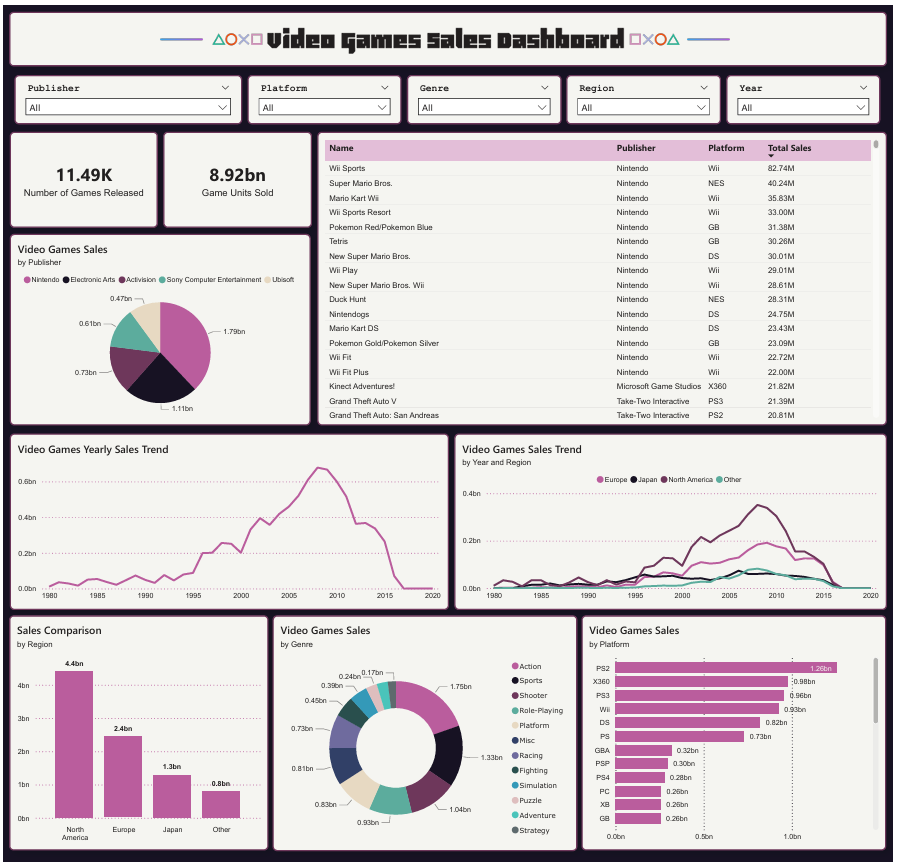

What the dashboard file says about the page in this screenshot:
{"tool":"powerbi","page":{"name":"Page 1","canvas":[1350,1300],"ordinal":0},"visuals":[{"type":"shape","box":[7.8,10,1333.3,83.3],"z":0},{"type":"image","box":[381.1,10,587.8,113.3],"z":1000},{"type":"image","box":[242.2,23.3,223.3,57.8],"z":2000},{"type":"image","box":[876.7,23.3,223.3,57.8],"z":3000},{"type":"image","box":[146.7,10,245.6,84.4],"z":4000},{"type":"image","box":[961.1,10,217.8,84.4],"z":5000},{"type":"slicer","fields":{"Values":["vgsales.Platform"]},"box":[370,105.6,234.4,75.6],"z":6000},{"type":"slicer","fields":{"Values":["vgsales.Publisher"]},"box":[15.6,105.6,346.7,75.6],"z":7000},{"type":"slicer","fields":{"Values":["vgsales.Genre"]},"box":[612.2,105.6,234.4,75.6],"z":8000},{"type":"slicer","fields":{"Values":["vgsales.Year.Variation.Date Hierarchy.Year"]},"box":[1096.7,105.6,234.4,75.6],"z":9000},{"type":"slicer","fields":{"Values":["vgsales.Region"]},"box":[854.4,105.6,234.4,75.6],"z":10000},{"type":"lineChart","title":"Video Games Yearly Sales Trend","fields":{"Category":["vgsales.Year.Variation.Date Hierarchy.Year"],"Y":["Sum(vgsales.Sales)"]},"box":[8.9,650,666.7,267.8],"z":11000},{"type":"clusteredColumnChart","fields":{"Category":["vgsales.Region"],"Y":["Sum(vgsales.Sales)"]},"box":[7.8,925.6,394.4,357.8],"z":12000},{"type":"lineChart","fields":{"Y":["Sum(vgsales.Sales)"],"Category":["vgsales.Year.Variation.Date Hierarchy.Year"],"Series":["vgsales.Region"]},"box":[684.4,650,656.7,267.8],"z":13000},{"type":"donutChart","title":"Video Games Sales","fields":{"Y":["Sum(vgsales.Sales)"],"Category":["vgsales.Genre"]},"box":[407.8,925.6,463.3,358.9],"z":14000},{"type":"clusteredBarChart","title":"Video Games Sales","fields":{"Y":["Sum(vgsales.Sales)"],"Category":["vgsales.Platform"]},"box":[876.7,925.6,463.3,357.8],"z":15000},{"type":"tableEx","fields":{"Values":["vgsales.Name","vgsales.Publisher","vgsales.Platform","Sum(vgsales.Sales)"]},"box":[475.6,192.2,865.6,445.6],"z":16000},{"type":"card","fields":{"Values":["Count(vgsales.Name)"]},"box":[8.9,192.2,225.6,145.6],"z":17000},{"type":"card","fields":{"Values":["Sum(vgsales.Sales)"]},"box":[242.2,192.2,225.6,145.6],"z":18000},{"type":"pieChart","title":"Video Games Sales","fields":{"Category":["vgsales.Publisher"],"Y":["Sum(vgsales.Sales)"],"Series":["vgsales.Publisher"]},"box":[8.9,346.7,456.7,291.1],"z":19000}]}

Visuals, with their boxes in screenshot pixels (x1, y1, x2, y2), scaled from the page's 1350x1300 canvas onto the 898x867 screenshot:
shape: bbox(5, 7, 892, 62)
image: bbox(254, 7, 644, 82)
image: bbox(161, 16, 310, 54)
image: bbox(583, 16, 732, 54)
image: bbox(98, 7, 261, 63)
image: bbox(639, 7, 784, 63)
slicer - vgsales.Platform: bbox(246, 70, 402, 121)
slicer - vgsales.Publisher: bbox(10, 70, 241, 121)
slicer - vgsales.Genre: bbox(407, 70, 563, 121)
slicer - vgsales.Year.Variation.Date Hierarchy.Year: bbox(730, 70, 885, 121)
slicer - vgsales.Region: bbox(568, 70, 724, 121)
"Video Games Yearly Sales Trend" lineChart: bbox(6, 434, 449, 612)
clusteredColumnChart - vgsales.Region x Sum(vgsales.Sales): bbox(5, 617, 268, 856)
lineChart - Sum(vgsales.Sales) x vgsales.Year.Variation.Date Hierarchy.Year: bbox(455, 434, 892, 612)
"Video Games Sales" donutChart: bbox(271, 617, 579, 857)
"Video Games Sales" clusteredBarChart: bbox(583, 617, 891, 856)
tableEx - vgsales.Name x vgsales.Publisher: bbox(316, 128, 892, 425)
card - Count(vgsales.Name): bbox(6, 128, 156, 225)
card - Sum(vgsales.Sales): bbox(161, 128, 311, 225)
"Video Games Sales" pieChart: bbox(6, 231, 310, 425)
